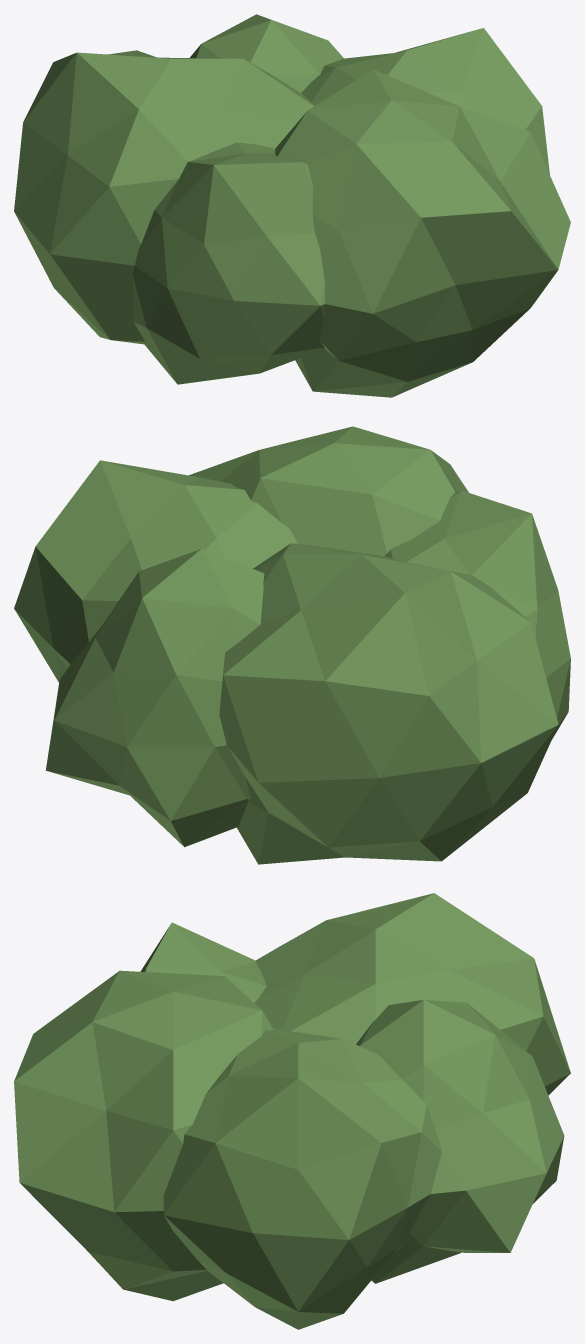
Rendered from shrub_round.glb.
3 views of the same model, one above another, from view 1: azimuth 30°, elevation 25°; view 2: azimuth 150°, elevation 25°; view 3: azimuth 270°, elevation 25° (orthographic). The views are drawn at different scales.
Parts seen in each view (by area): view 1: shrub_round; view 2: shrub_round; view 3: shrub_round.
Boxes of the visible parts, bbox=[...] form: shrub_round: bbox=[14, 14, 570, 397]; shrub_round: bbox=[14, 426, 570, 864]; shrub_round: bbox=[14, 893, 570, 1329].
Size of the model in its own units: 1.53 by 0.9149 by 1.48.
